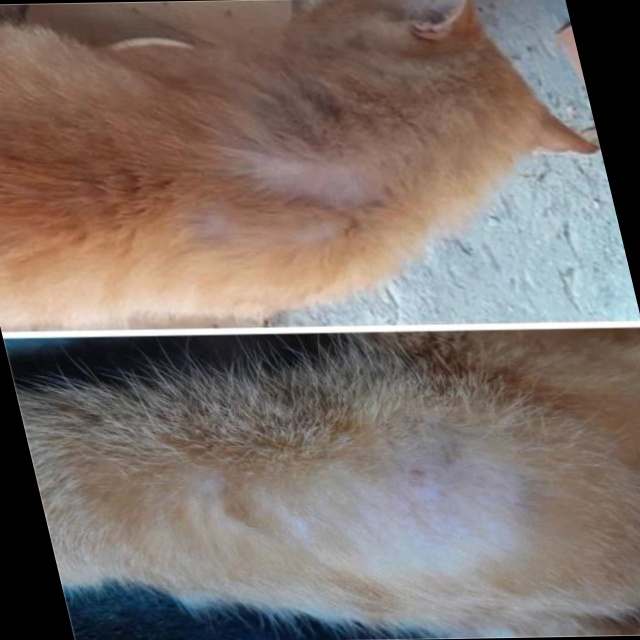hairloss: (278, 453, 526, 564), (257, 167, 375, 210), (188, 219, 333, 241)
